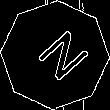N_SW: (23, 23, 87, 87)
